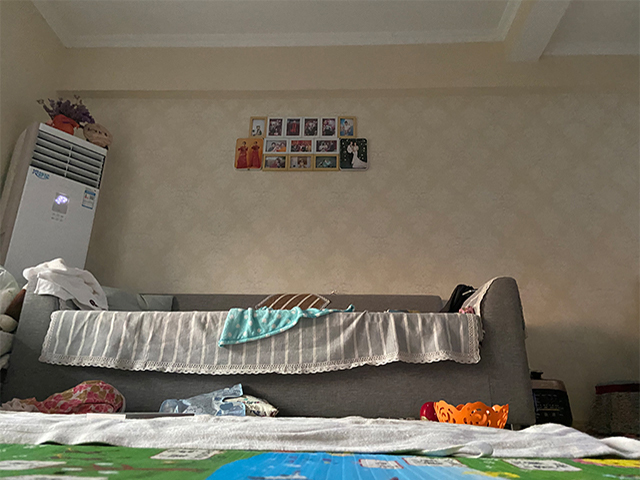sofa: (1, 274, 535, 431)
stool: (588, 380, 640, 438)
